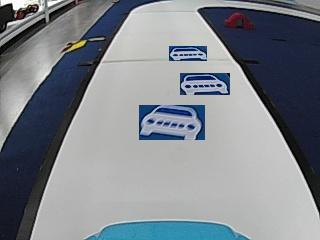bridge: (225, 12, 253, 28)
